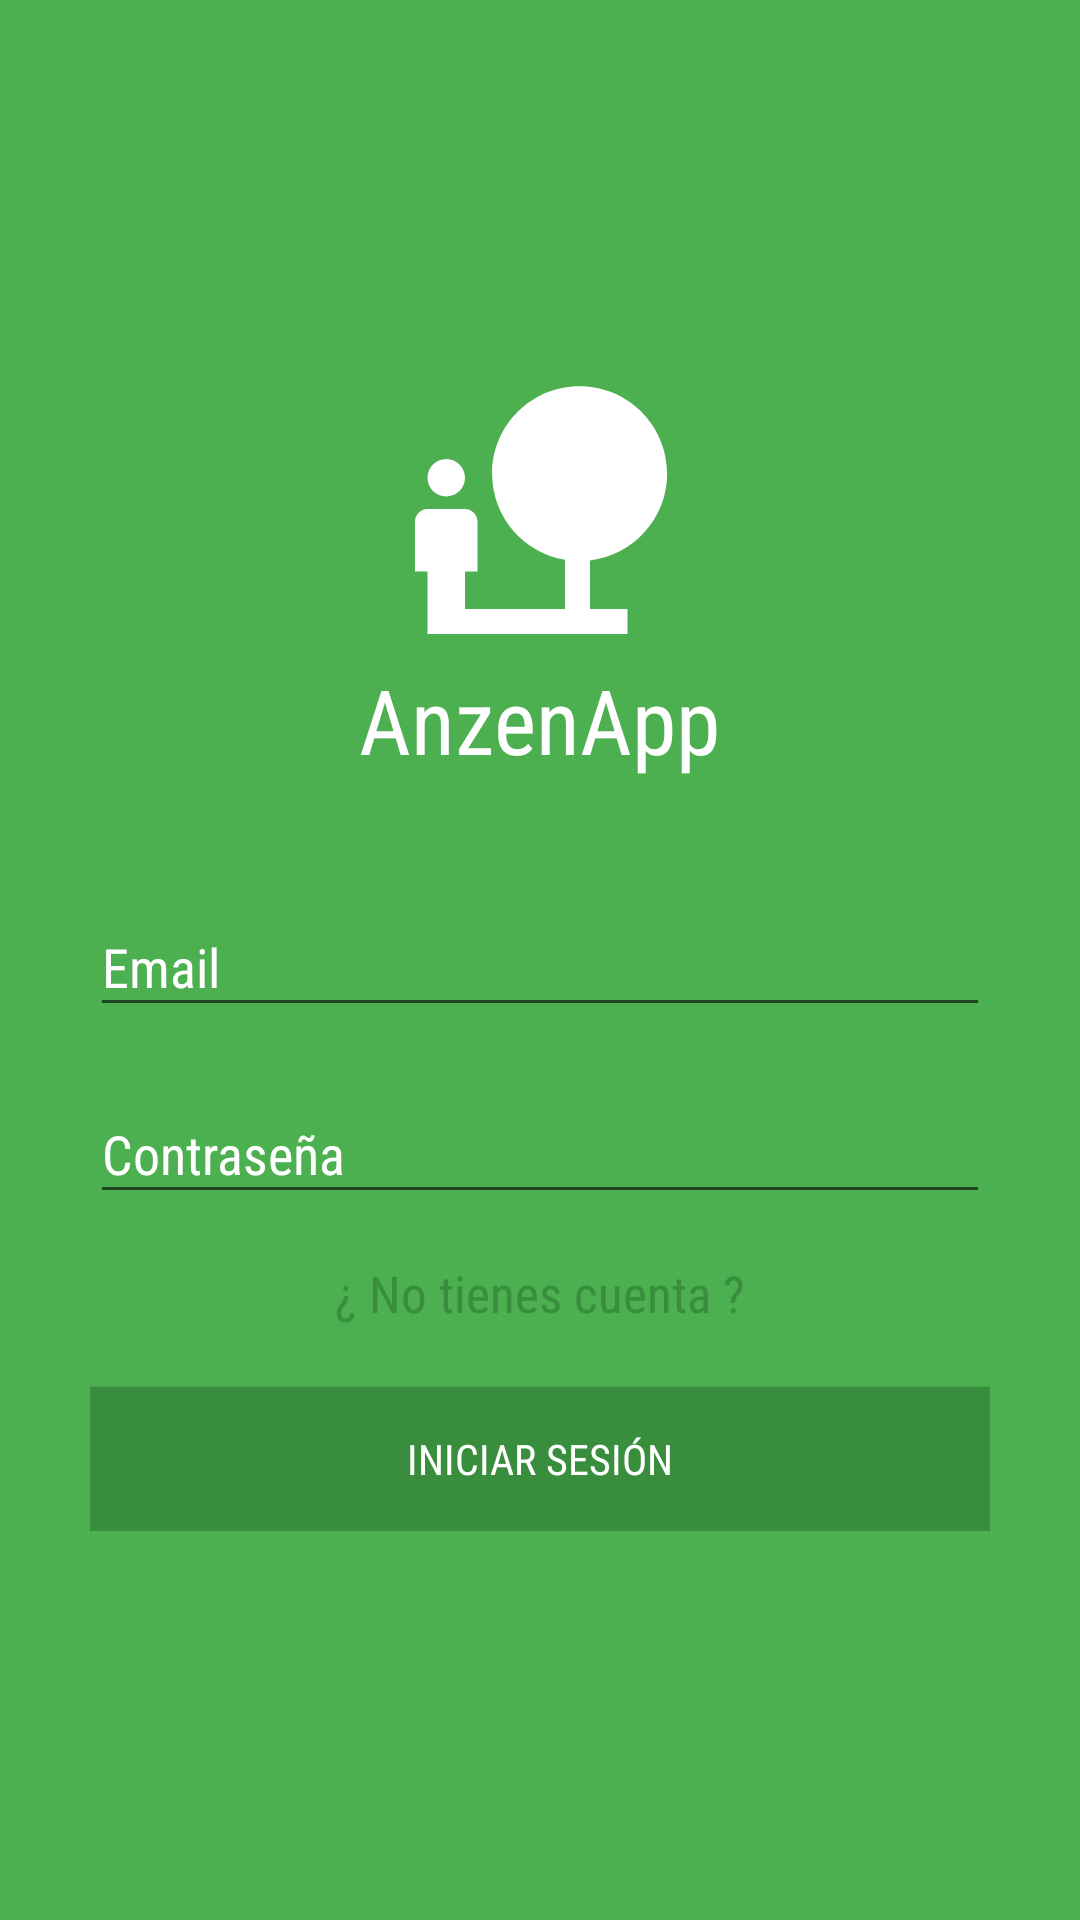

Icon bounding boxes for this 1080 × 1920 phone screenshot, format (x1, y1, x2, y2):
nature people: (415, 386, 667, 634)
